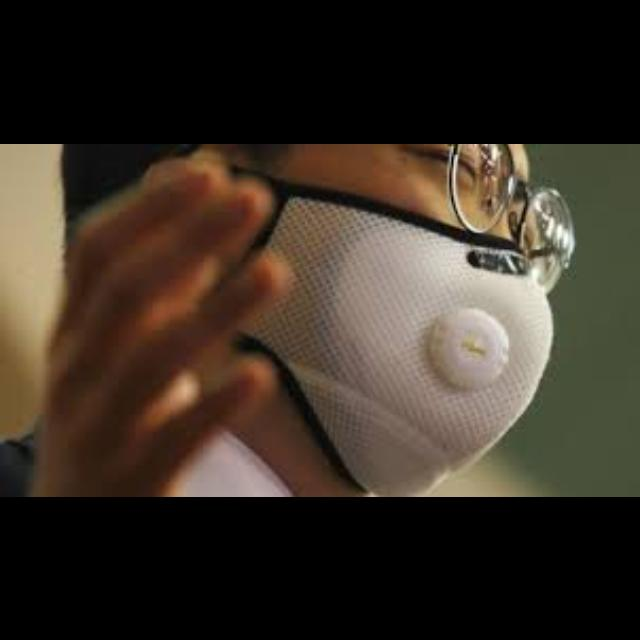masks: (235, 162, 559, 496)
